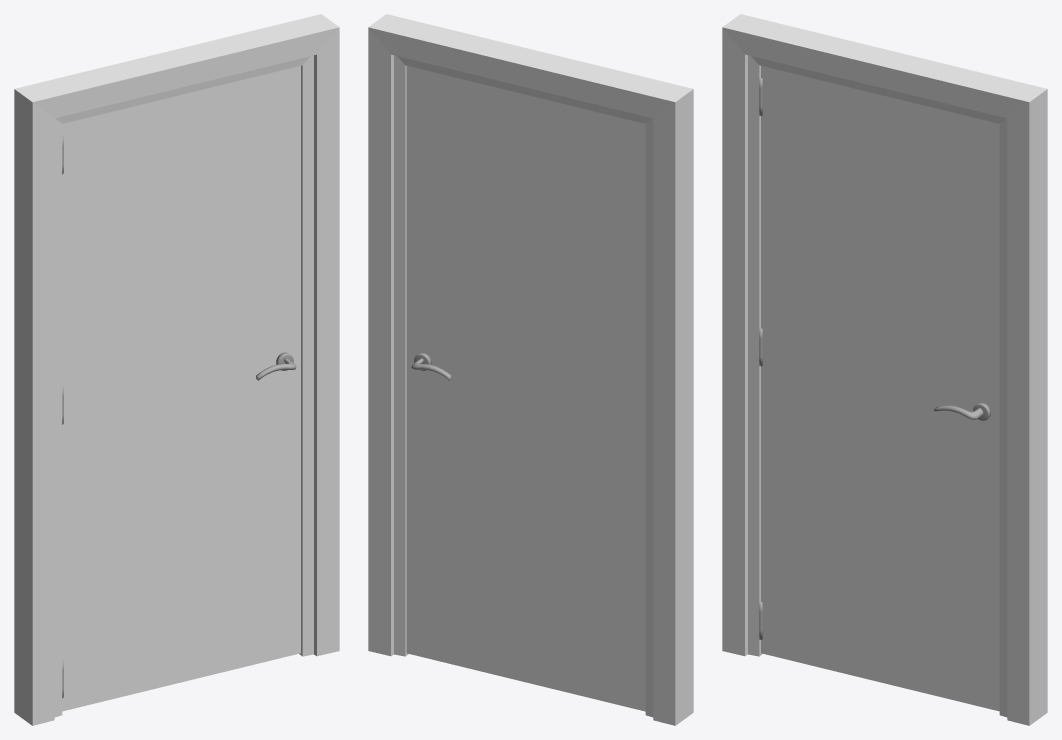
The model's file is PanelDoorSingle001.glb.
3 views of the same model, side by side, from view 1: azimuth 30°, elevation 25°; view 2: azimuth 150°, elevation 25°; view 3: azimuth 330°, elevation 25° (orthographic).
Parts seen in each view (by area): view 1: DoorSingleDoor001[door], DoorSingleFrame001[doorframe]; view 2: DoorSingleDoor001[door], DoorSingleFrame001[doorframe]; view 3: DoorSingleDoor001[door], DoorSingleFrame001[doorframe], DoorSingleKnob001[door].
Boxes of the visible parts, x1,y1,x2,y2 form: DoorSingleDoor001[door]: [62, 65, 300, 711]; DoorSingleFrame001[doorframe]: [14, 14, 339, 725]; DoorSingleDoor001[door]: [406, 65, 645, 711]; DoorSingleFrame001[doorframe]: [368, 14, 693, 725]; DoorSingleDoor001[door]: [761, 65, 999, 711]; DoorSingleFrame001[doorframe]: [722, 14, 1047, 725]; DoorSingleKnob001[door]: [934, 402, 990, 420].
Bounding box in the file's own units: 1.09 × 2.12 × 0.2078.
4 materials, 4 textured.
